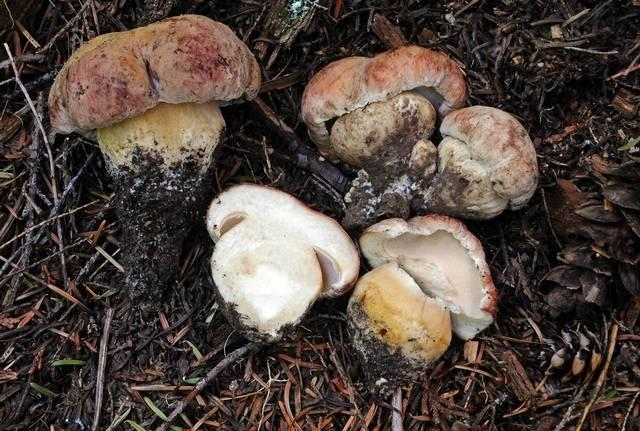edible_mushroom: (46, 10, 260, 308), (204, 182, 360, 345), (299, 43, 467, 168), (358, 212, 498, 341), (411, 104, 539, 220), (345, 260, 452, 391)
